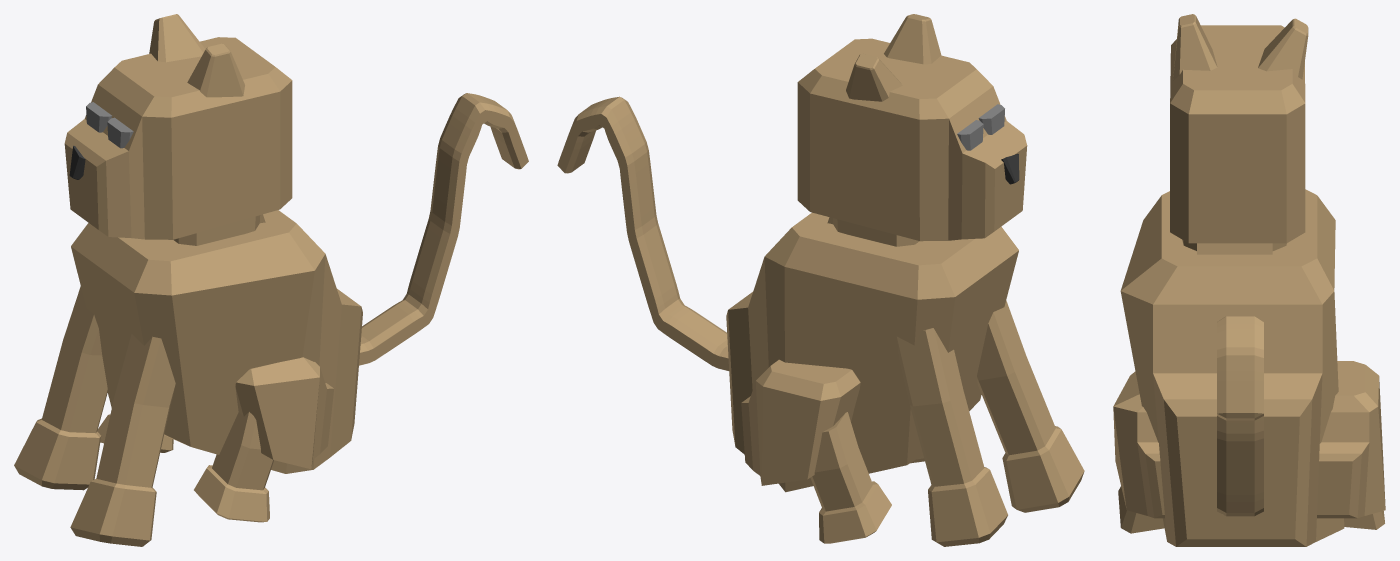
The model's file is animal.gltf.
3 views of the same model, side by side, from view 1: azimuth 30°, elevation 25°; view 2: azimuth 150°, elevation 25°; view 3: azimuth 270°, elevation 25° (orthographic). The views are drawn at different scales.
Visible parts, largest first — view 1: Cube.022; view 2: Cube.022; view 3: Cube.022.
Part boxes in pixels (bbox=[...]): Cube.022: bbox=[14, 14, 528, 546]; Cube.022: bbox=[557, 14, 1084, 546]; Cube.022: bbox=[1113, 14, 1385, 546].
Size of the model in its own units: 0.859 by 0.8075 by 0.3892.
